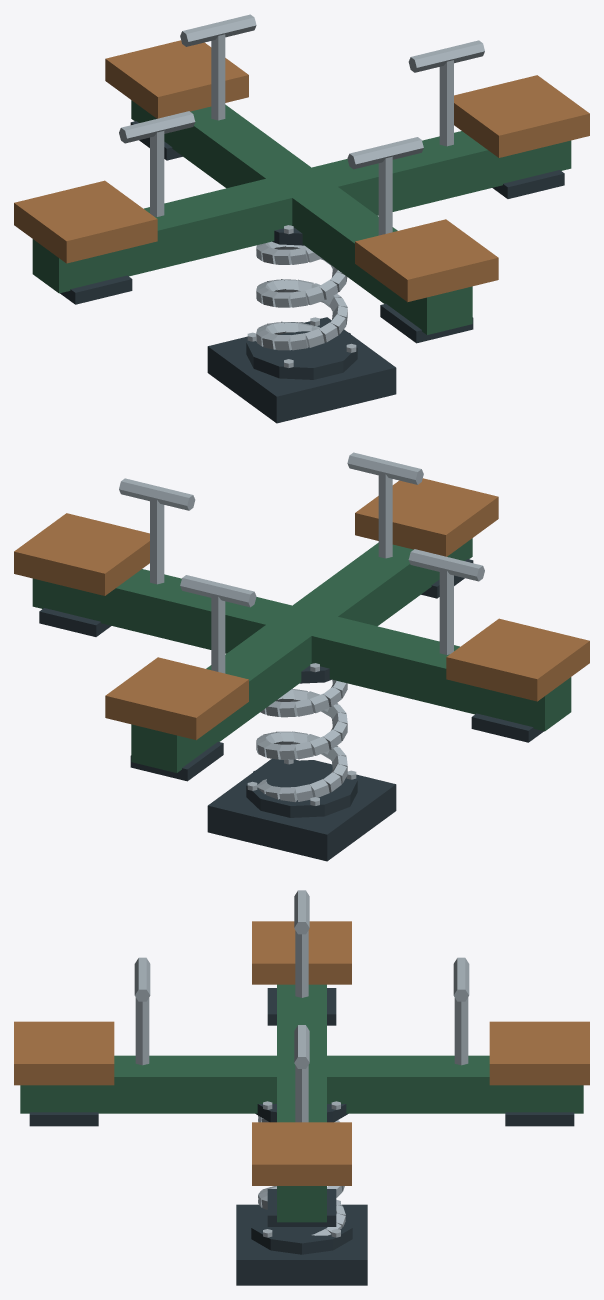
Rendered from b09_four_seat_spring_rocker.glb.
The picture shows the model from 3 angles, top to bottom: view 1: azimuth 30°, elevation 25°; view 2: azimuth 150°, elevation 25°; view 3: azimuth 270°, elevation 25°; orthographic projection. The views are drawn at different scales.
Parts seen in each view (by area): view 1: b09_four_seat_spring_rocker; view 2: b09_four_seat_spring_rocker; view 3: b09_four_seat_spring_rocker.
Part boxes in pixels (left/top/right/bottom): b09_four_seat_spring_rocker: left=14, top=14, right=589, bottom=423; b09_four_seat_spring_rocker: left=14, top=452, right=589, bottom=861; b09_four_seat_spring_rocker: left=14, top=890, right=589, bottom=1285.
Bounding box in the file's own units: 1.84 × 1 × 1.84.
